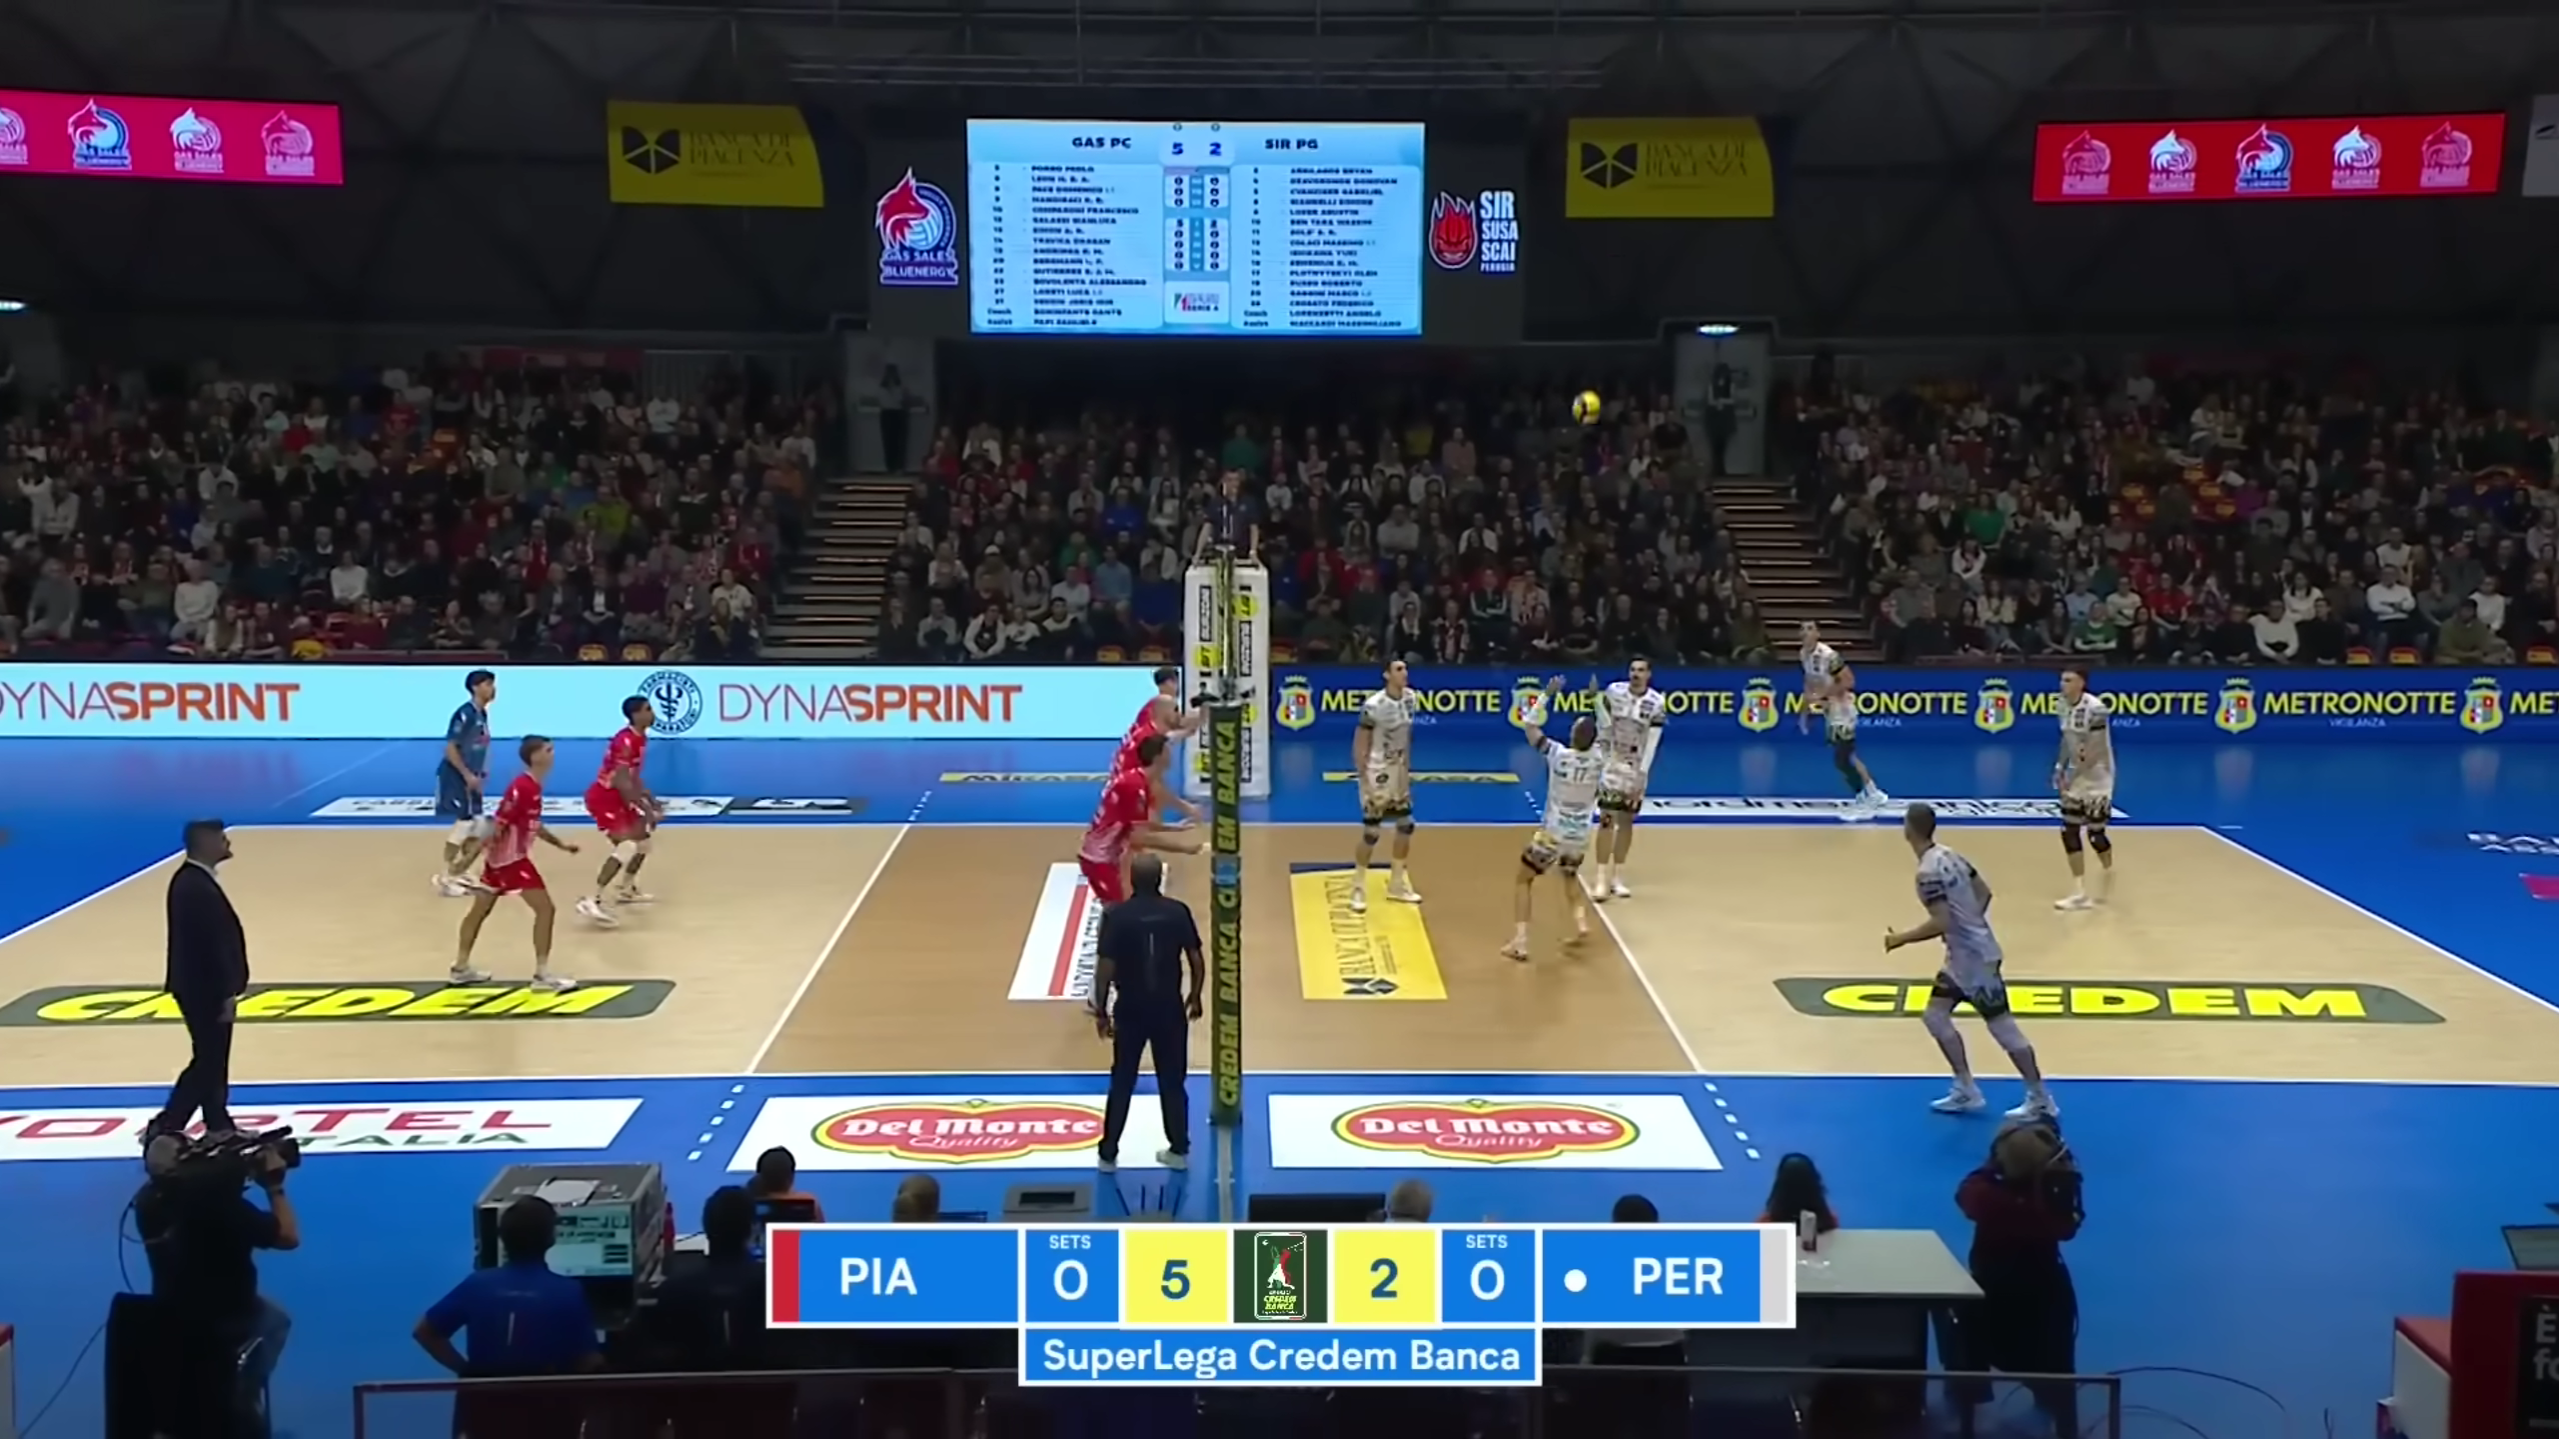Ball: (1570, 389, 1604, 426)
